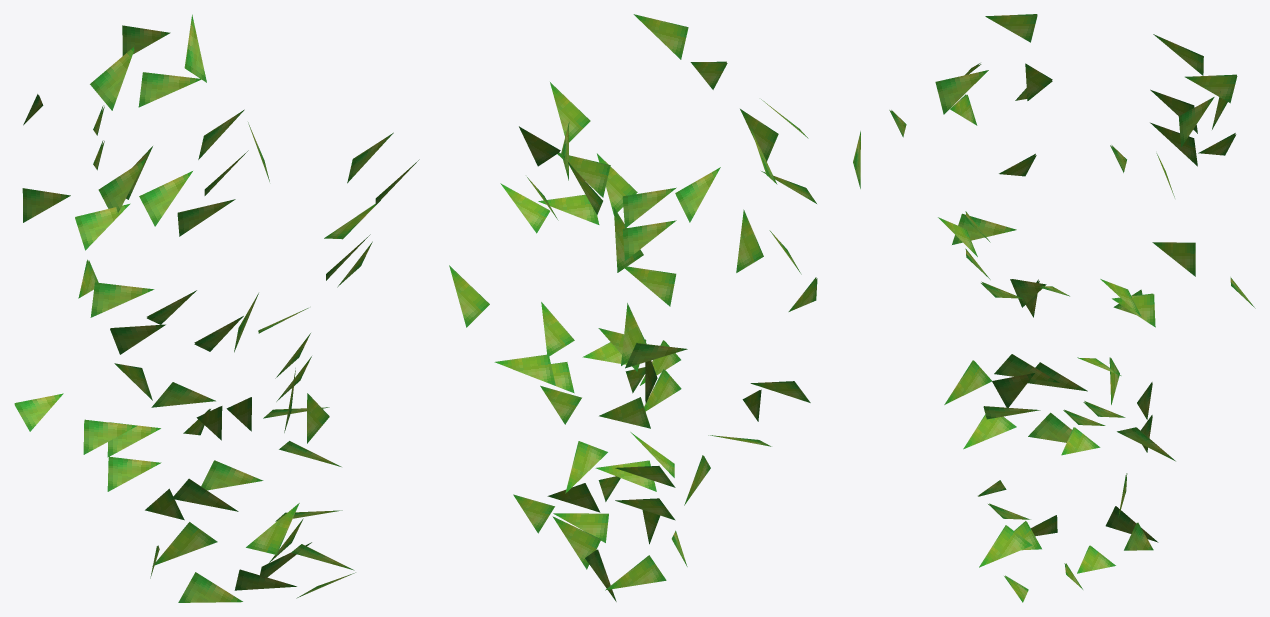
The model's file is items__bbtornado.glb.
The picture shows the model from 3 angles, left to right: view 1: azimuth 30°, elevation 25°; view 2: azimuth 150°, elevation 25°; view 3: azimuth 270°, elevation 25°; orthographic projection. The views are drawn at different scales.
Visible parts, largest first — view 1: leaves128; view 2: leaves128; view 3: leaves128.
Part boxes in pixels (left/top/right/bottom): leaves128: left=14, top=14, right=419, bottom=602; leaves128: left=449, top=14, right=860, bottom=601; leaves128: left=889, top=14, right=1255, bottom=602.
Size of the model in its own units: 7.01 by 9.44 by 6.3.
1 material, 1 textured.
